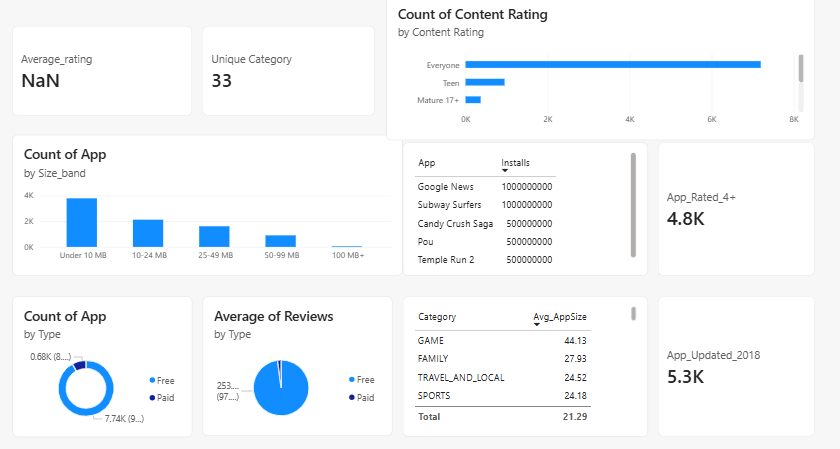

The dashboard page shown, as its layout file describes it:
{"tool":"powerbi","page":{"name":"Basic_Questions","canvas":[1280,720],"ordinal":0},"visuals":[{"type":"cardVisual","fields":{"Data":["Measure_Table.Average_rating"]},"box":[19.5,61.8,266.6,133.3],"z":0},{"type":"cardVisual","fields":{"Data":["Measure_Table.Unique Category"]},"box":[300.8,61.8,271.5,133.3],"z":1},{"type":"clusteredColumnChart","fields":{"Y":["Count(Apps.App)"],"Category":["Apps.Size_band"]},"box":[19.5,222.7,562.5,208.1],"z":2},{"type":"donutChart","fields":{"Category":["Apps.Type"],"Y":["Count(Apps.App)"]},"box":[19.5,462.4,267.3,206.8],"z":3},{"type":"clusteredColumnChart","fields":{"Category":["Apps.App"],"Y":["Count(Apps.Content Rating)"]},"box":[582.1,61.8,624.3,169.1],"z":4},{"type":"tableEx","fields":{"Values":["App Dimension.App","Apps.Installs"]},"box":[597,234.1,362.9,197],"z":5},{"type":"cardVisual","fields":{"Data":["Measure_Table.App_Rated_4+"]},"box":[973.5,234.1,232.2,197],"z":6},{"type":"pieChart","fields":{"Category":["Apps.Type"],"Y":["Avg(Apps.Reviews)"]},"box":[300.4,462.4,280.9,206.8],"z":7},{"type":"tableEx","fields":{"Values":["Apps.Category","Measure_Table.Avg_AppSize"]},"box":[597,462,363,207],"z":8},{"type":"cardVisual","fields":{"Data":["Measure_Table.App_Updated_2018"]},"box":[974,462,232,207],"z":9}]}

Visuals, with their boxes on the page's 1280x720 design canvas (x1, y1, x2, y2). These are canvas units, not pixel positions in the 840x449 screenshot, which may show the page scaled, cropped or inside an application window:
cardVisual - Measure_Table.Average_rating: 20:62:286:195
cardVisual - Measure_Table.Unique Category: 301:62:572:195
clusteredColumnChart - Count(Apps.App) x Apps.Size_band: 20:223:582:431
donutChart - Apps.Type x Count(Apps.App): 20:462:287:669
clusteredColumnChart - Apps.App x Count(Apps.Content Rating): 582:62:1206:231
tableEx - App Dimension.App x Apps.Installs: 597:234:960:431
cardVisual - Measure_Table.App_Rated_4+: 974:234:1206:431
pieChart - Apps.Type x Avg(Apps.Reviews): 300:462:581:669
tableEx - Apps.Category x Measure_Table.Avg_AppSize: 597:462:960:669
cardVisual - Measure_Table.App_Updated_2018: 974:462:1206:669
